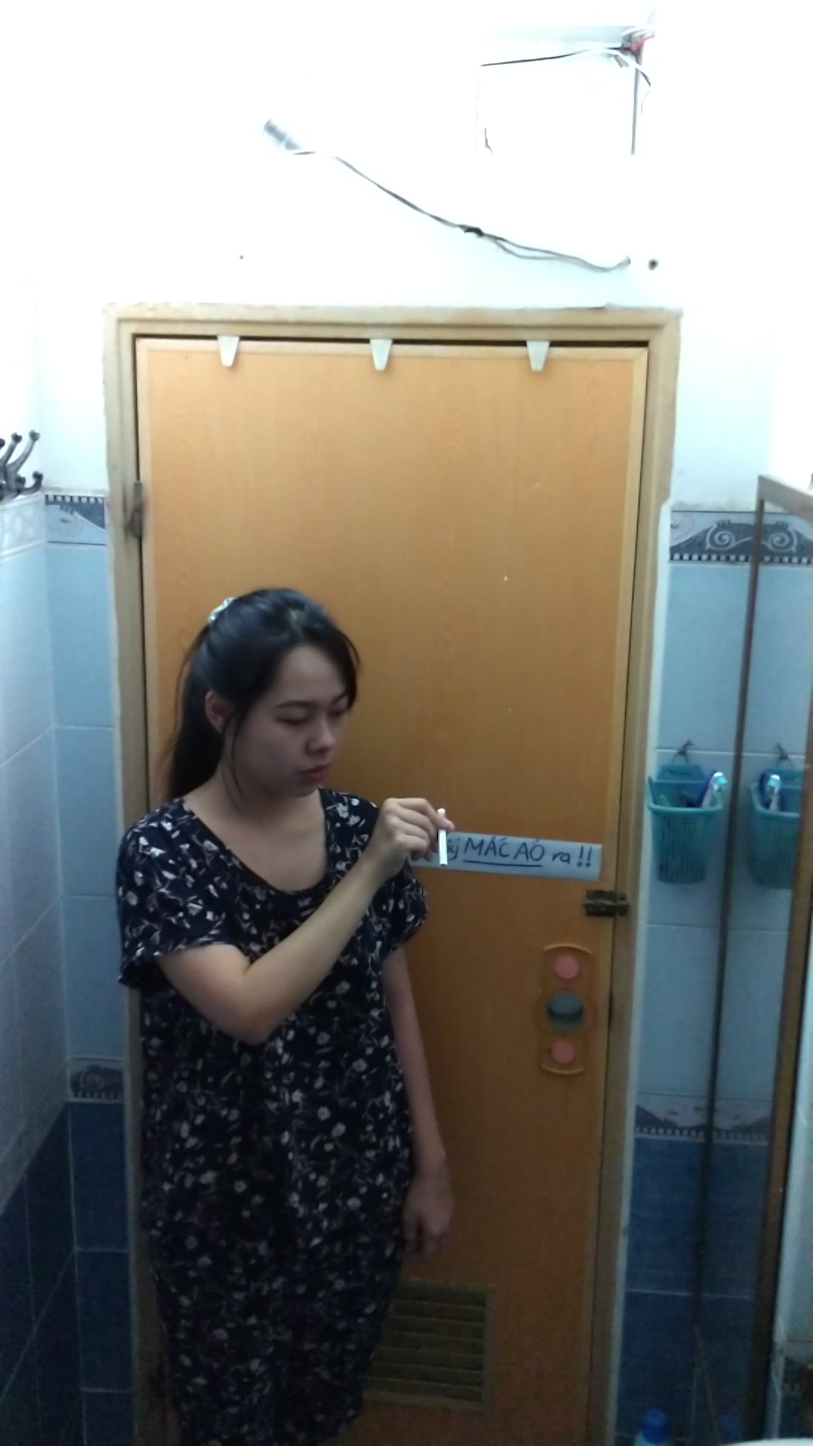cigarette: (433, 825, 454, 874)
person: (112, 577, 461, 1444)
